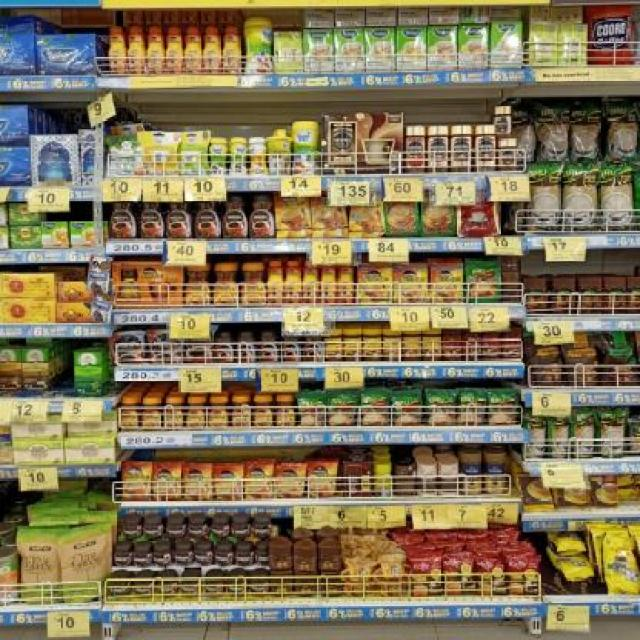Coffee: (310, 191, 348, 238), (276, 191, 310, 238), (350, 195, 384, 237), (394, 264, 428, 302), (429, 265, 463, 303), (110, 332, 145, 366), (148, 331, 184, 364), (358, 266, 390, 303), (166, 194, 192, 238), (194, 194, 220, 238), (110, 194, 136, 238), (122, 462, 152, 500), (184, 327, 214, 364), (249, 195, 274, 239), (212, 264, 239, 304), (222, 194, 246, 238), (139, 196, 164, 238), (245, 463, 273, 499), (185, 265, 209, 306), (309, 461, 336, 497), (242, 264, 266, 304), (276, 463, 304, 497), (153, 463, 179, 499), (451, 126, 472, 170), (476, 124, 496, 170), (428, 127, 448, 173), (184, 464, 211, 498), (215, 466, 242, 499), (185, 26, 203, 74), (108, 27, 127, 71), (165, 27, 183, 73), (204, 28, 221, 75), (223, 25, 239, 72), (146, 26, 162, 72), (128, 27, 144, 73), (207, 397, 228, 428), (213, 332, 234, 362), (275, 396, 296, 426), (498, 138, 517, 171), (186, 397, 206, 428), (258, 333, 279, 362), (163, 399, 184, 428), (286, 260, 300, 303), (337, 264, 352, 304), (236, 332, 256, 362), (253, 396, 273, 426), (319, 266, 335, 303), (230, 397, 250, 426), (140, 399, 160, 428), (268, 262, 282, 303), (303, 263, 317, 303), (119, 400, 138, 429), (152, 544, 174, 568), (494, 105, 510, 138), (282, 335, 300, 362), (303, 335, 322, 360), (172, 545, 194, 566), (234, 546, 255, 568), (113, 544, 132, 568), (214, 545, 234, 567), (250, 576, 272, 596), (194, 544, 213, 567), (133, 547, 153, 568), (203, 578, 225, 597), (163, 521, 185, 539), (132, 580, 154, 598), (232, 520, 251, 540), (255, 546, 274, 566), (179, 579, 199, 598), (187, 521, 208, 539), (142, 522, 162, 540), (252, 520, 271, 538), (108, 580, 129, 596), (121, 520, 139, 538), (228, 578, 246, 596), (157, 579, 176, 596), (212, 520, 230, 537)
